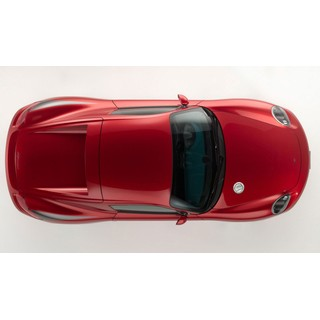car: (6, 97, 313, 225)
